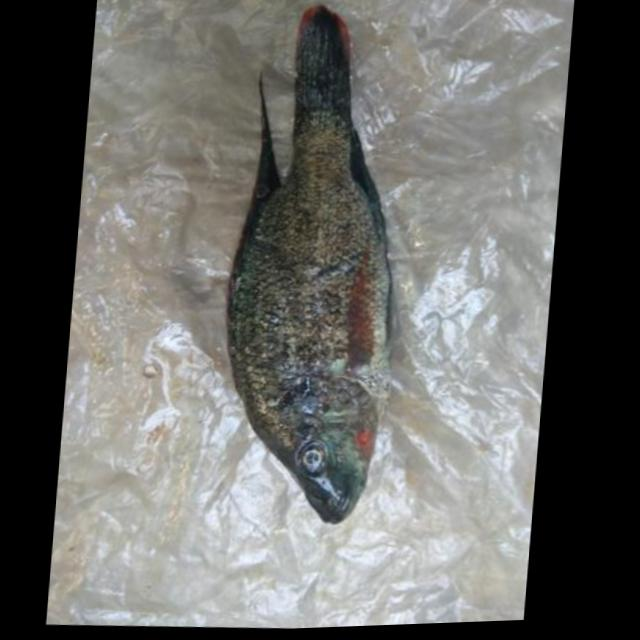Tilapia: (208, 0, 417, 531)
